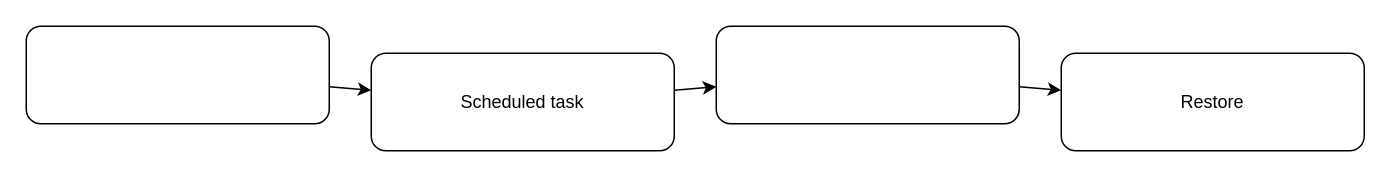
This 1391x177 diagram has some shape labels left out. Here are the shapes that lost their labels. From the top down, the centre of each, then its label:
the point at 177,74: Host group
the point at 867,74: Adapter disable
